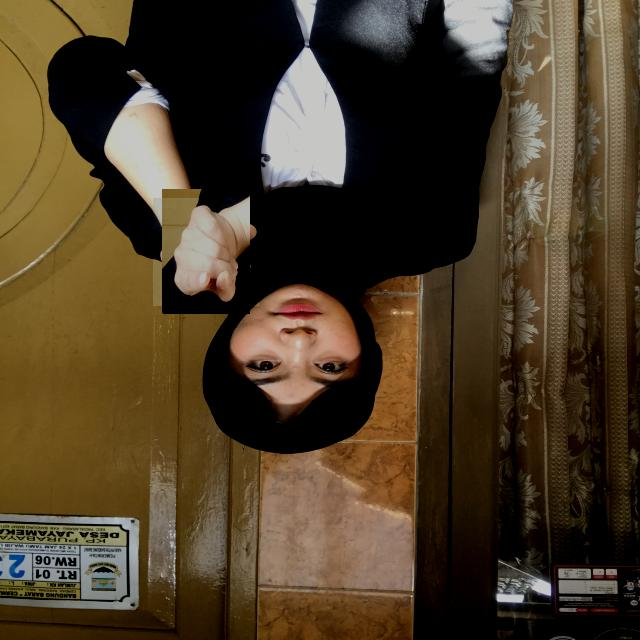kamu: (153, 198, 259, 306)
